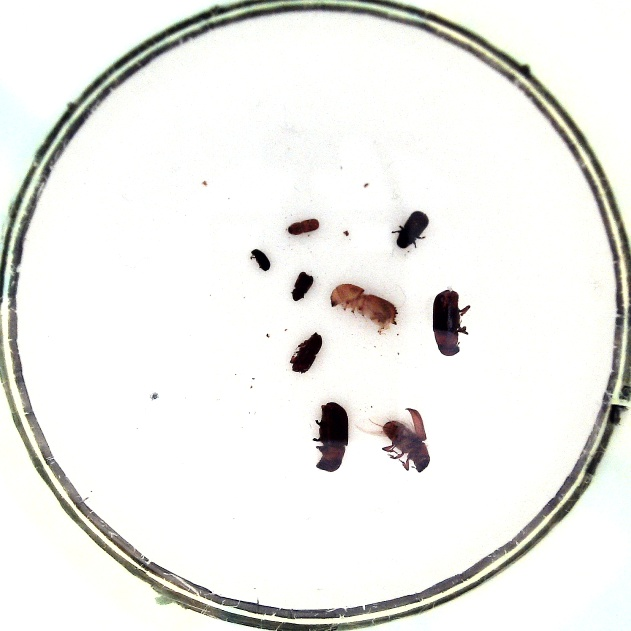acuminatus: (251, 249, 270, 271)
armandi: (396, 210, 429, 248)
boerner: (330, 284, 398, 329)
coleoptera: (292, 271, 313, 301), (288, 218, 319, 235)
leconte: (382, 421, 430, 472), (316, 402, 348, 471), (433, 289, 460, 355)
linnaeus: (292, 332, 322, 373)
